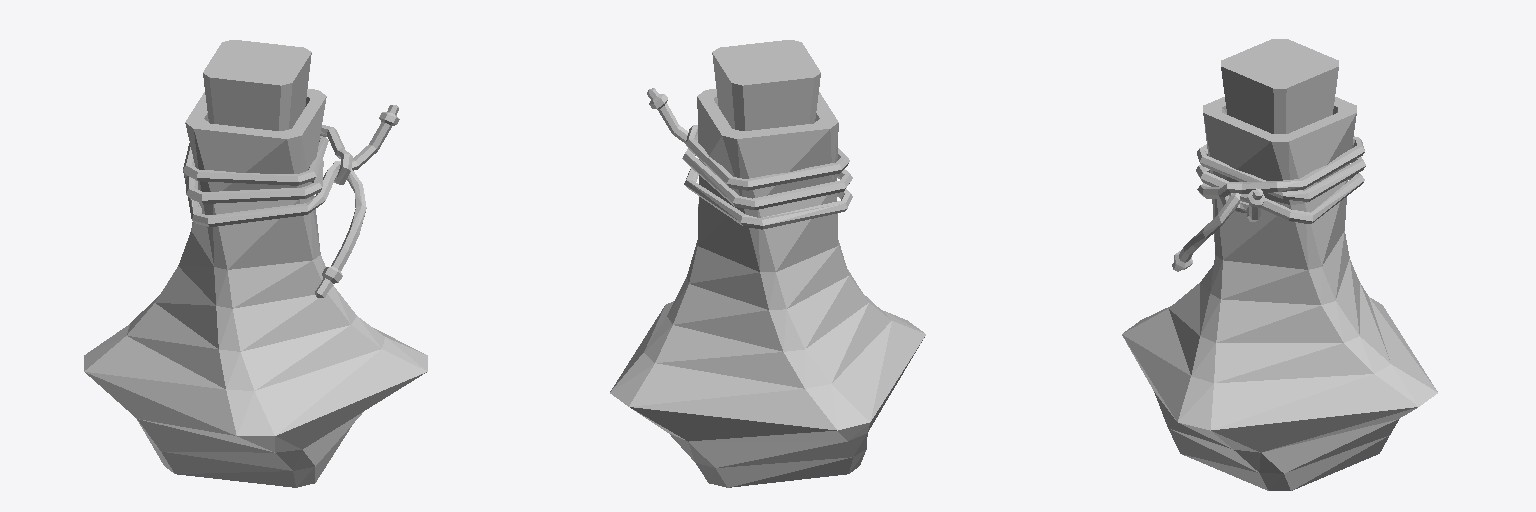
The model's file is mana_potion.obj.
3 views of the same model, side by side, from view 1: azimuth 30°, elevation 25°; view 2: azimuth 150°, elevation 25°; view 3: azimuth 270°, elevation 25° (orthographic).
Parts seen in each view (by area): view 1: Cube, Cube.001; view 2: Cube, Cube.001; view 3: Cube, Cube.001.
Boxes of the visible parts, x1=… form: Cube: x1=84, y1=40, x2=427, y2=487; Cube.001: x1=189, y1=42, x2=399, y2=282; Cube: x1=610, y1=40, x2=925, y2=487; Cube.001: x1=649, y1=40, x2=849, y2=225; Cube: x1=1122, y1=39, x2=1437, y2=490; Cube.001: x1=1173, y1=39, x2=1365, y2=271.
Size of the model in its own units: 0.3284 by 0.4417 by 0.3284.